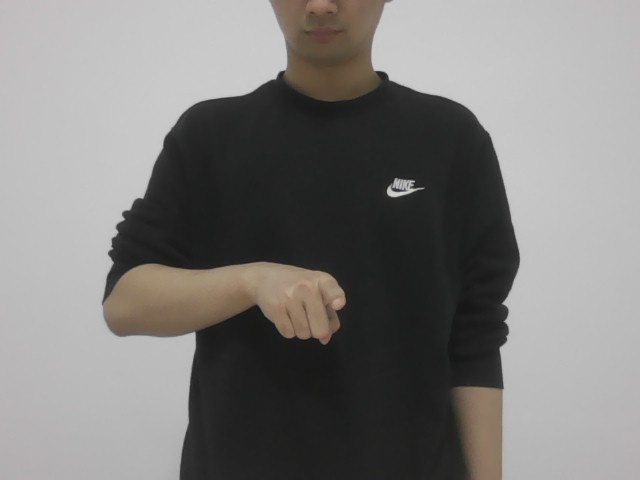you/your/this: (245, 252, 351, 349)
